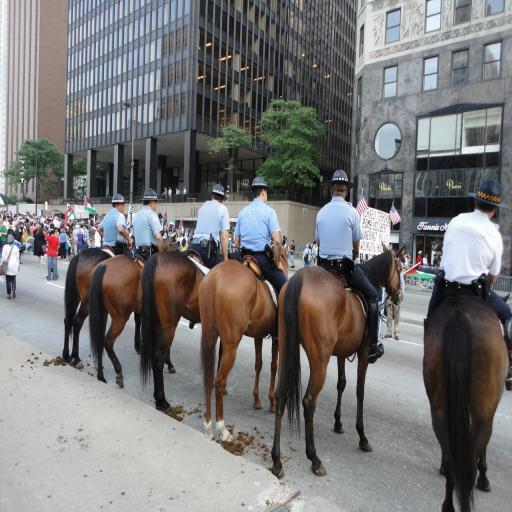horse: (270, 240, 405, 480), (418, 288, 510, 512), (196, 242, 292, 443), (132, 247, 240, 414), (87, 244, 180, 388), (61, 246, 144, 368)
